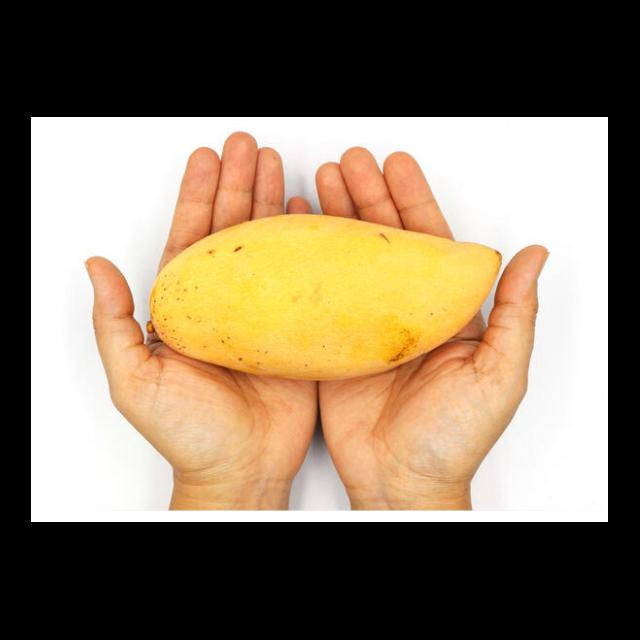mango: (148, 214, 504, 380)
